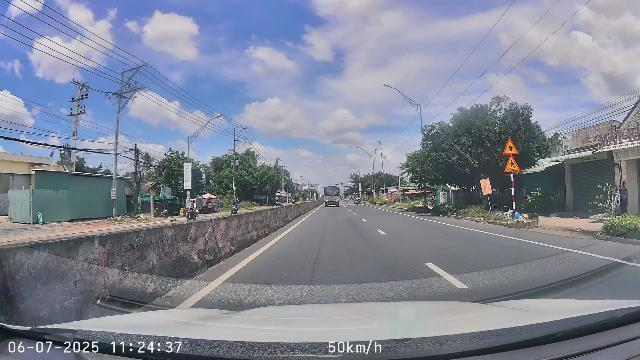207-giao-nhau-voi-duong-khong-uu-tien: (503, 138, 519, 155)
224-duong-nguoi-di-bo-cat-ngang: (504, 155, 520, 172)
